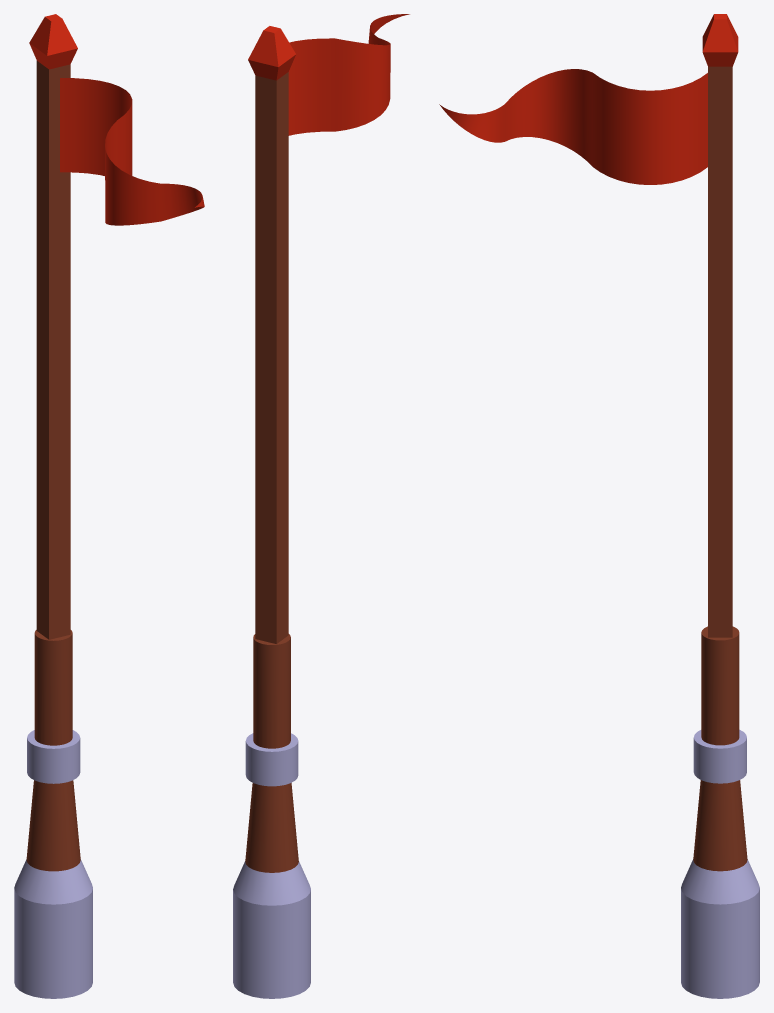
Rendered from FlagRed.fbx.
3 renders of one model, left to right at view 1: azimuth 30°, elevation 25°; view 2: azimuth 150°, elevation 25°; view 3: azimuth 270°, elevation 25°, orthographic.
Visible parts, largest first — view 1: mergedBlocks; view 2: mergedBlocks; view 3: mergedBlocks.
Boxes of the visible parts, x1,y1,x2,y2 form: mergedBlocks: (14, 14, 204, 998); mergedBlocks: (233, 14, 409, 998); mergedBlocks: (439, 14, 759, 998).
Bounding box in the file's own units: 19.22 × 248 × 74.82.
